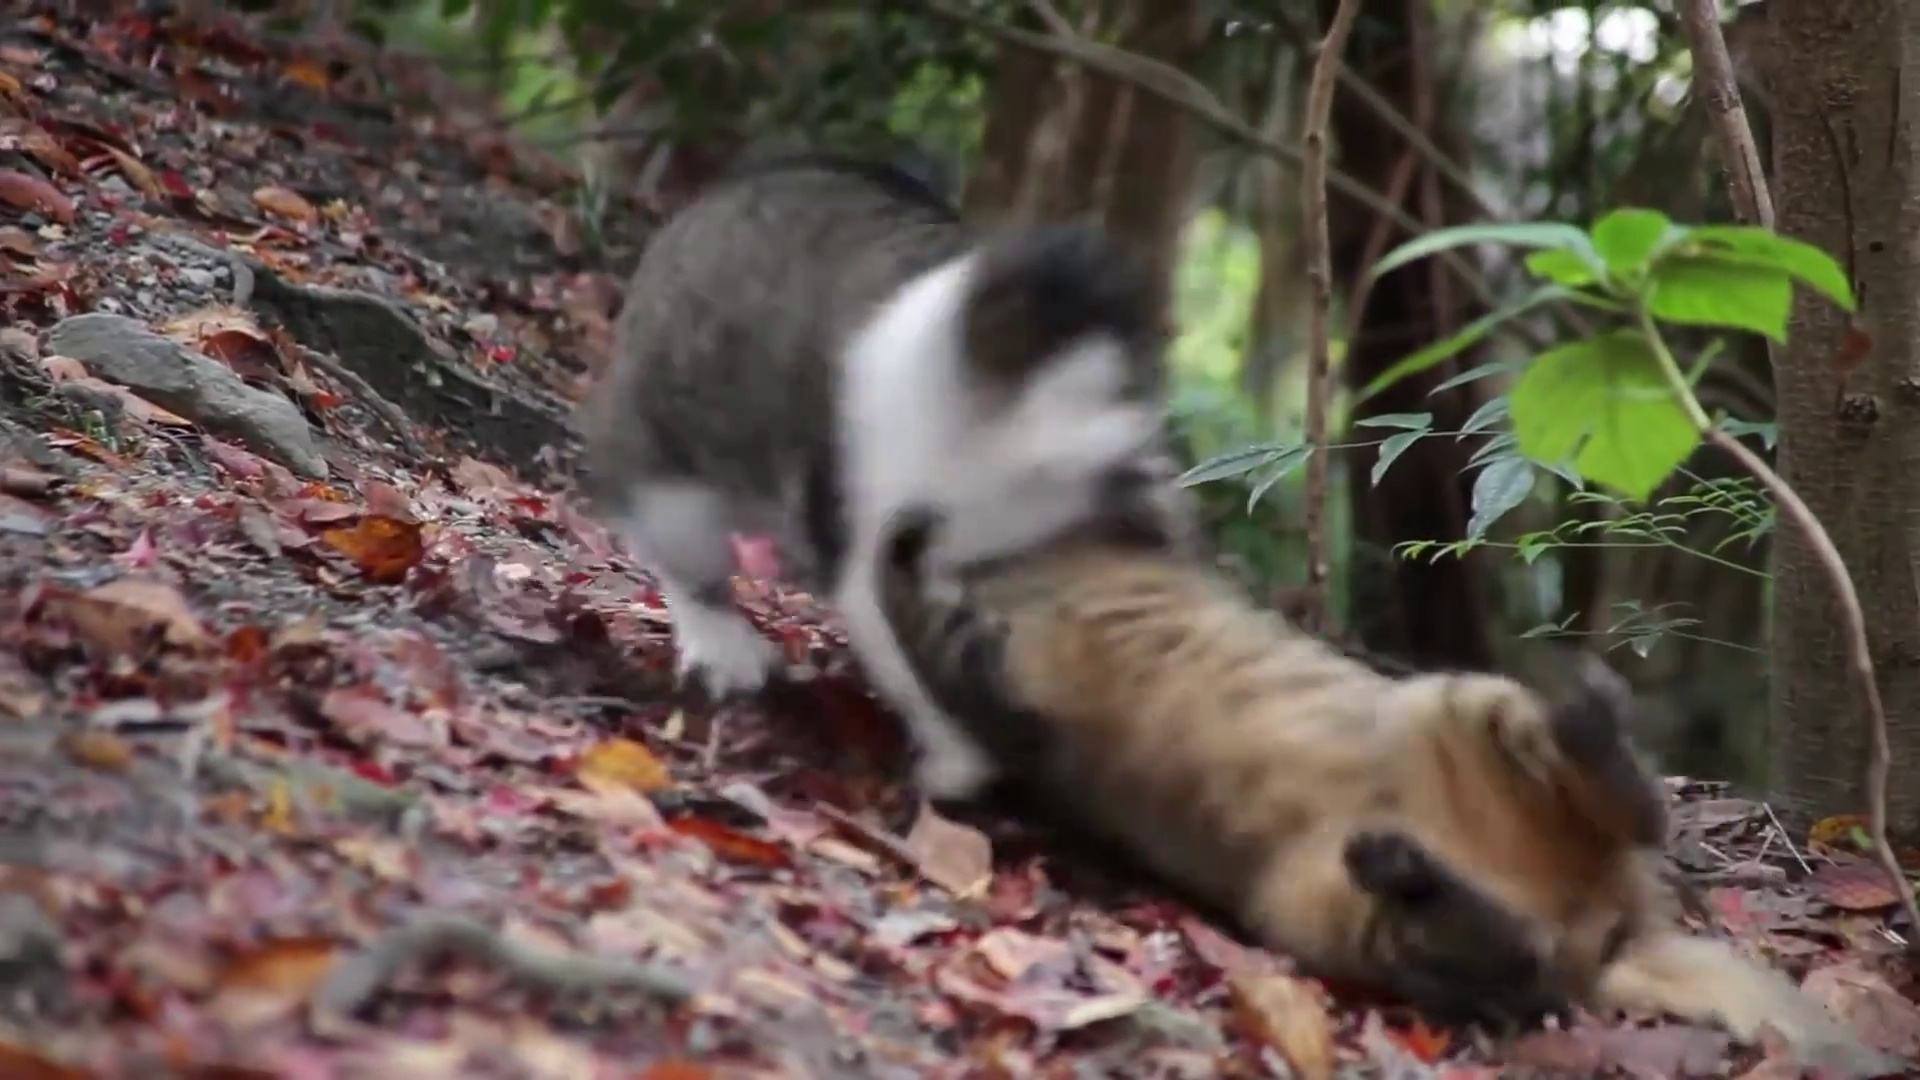black-white: (587, 167, 1168, 803)
pure black: (893, 521, 1669, 1030)
